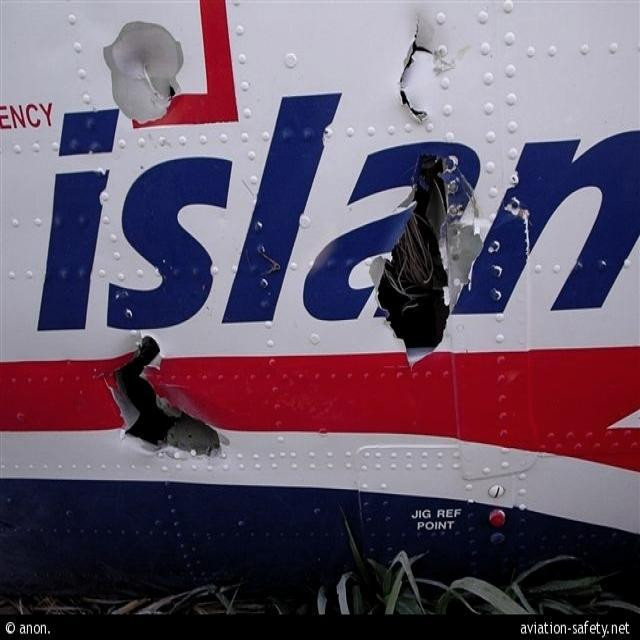crack: (372, 150, 461, 377), (101, 334, 234, 464), (398, 10, 441, 129), (138, 56, 179, 107)
